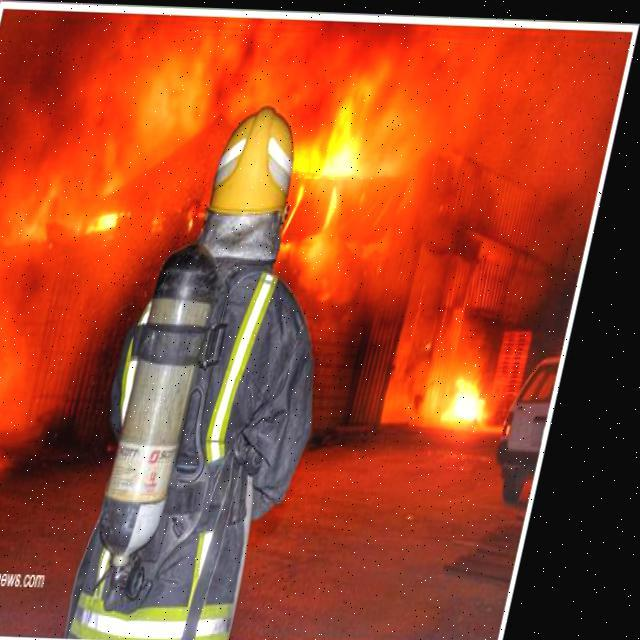Fire: (0, 26, 441, 279), (454, 364, 516, 426)
